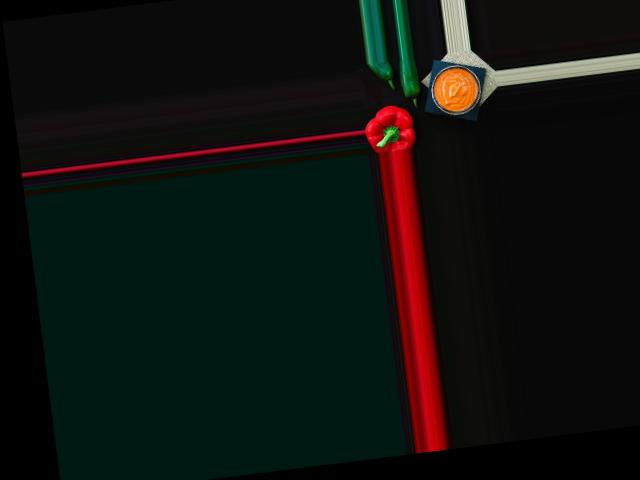bell_pepper: (364, 104, 417, 154)
